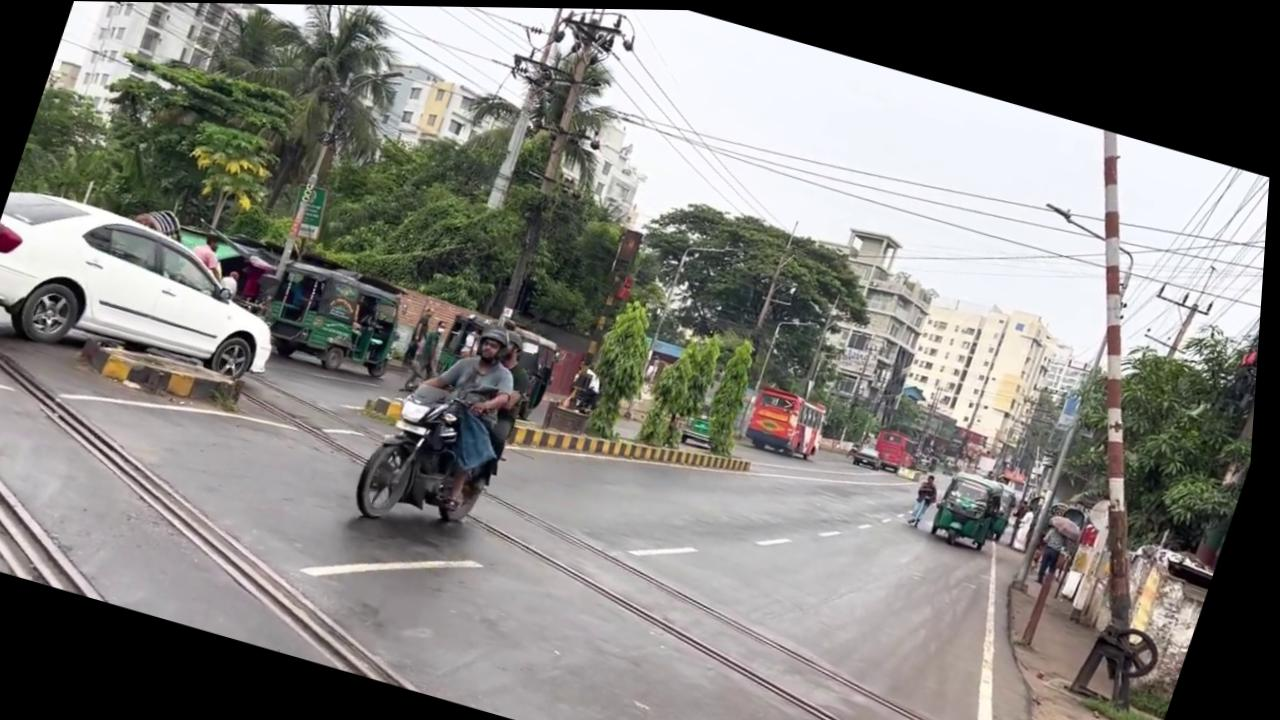Bollard: (0, 181, 309, 405), (682, 409, 727, 449)
Curb: (352, 354, 532, 546)
Fence: (388, 309, 538, 516), (187, 229, 238, 281), (913, 468, 950, 526)
Garbage: (933, 124, 1274, 707), (491, 6, 621, 323), (485, 6, 573, 212)
Motorcycle: (0, 323, 502, 689)
Railroad-crossing: (172, 2, 428, 244), (575, 289, 675, 443), (637, 320, 733, 454), (701, 332, 774, 457)
Rickshaw: (250, 247, 421, 384)
